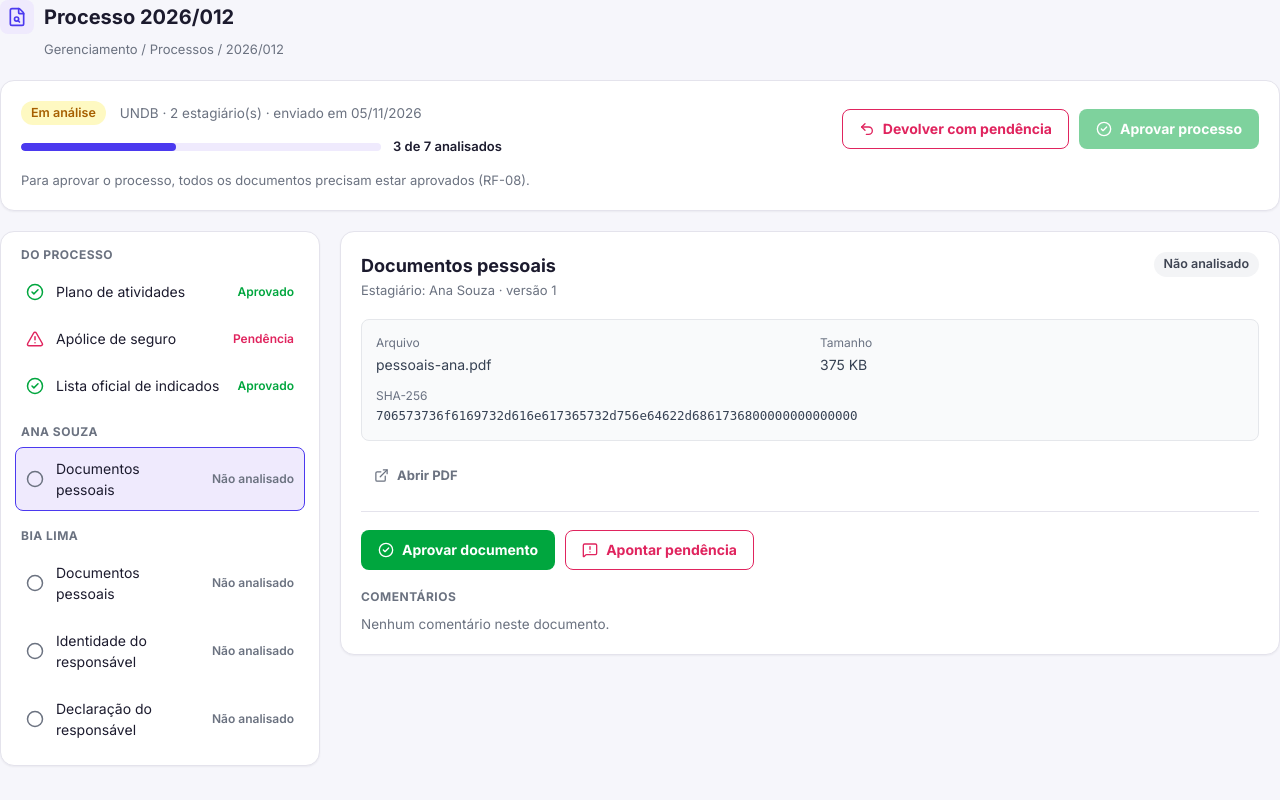
Scenario: AnaliseProcesso › mostra metadados e hash do documento selecionado
The width and height of the screenshot is (1280, 800).
Expected: the heading "Processo 2026/012" is shown, x1=44 y1=2 x2=234 y2=32
Click the button "Plano de atividades Aprovado" at [160, 292], box x1=15 y1=270 x2=305 y2=313
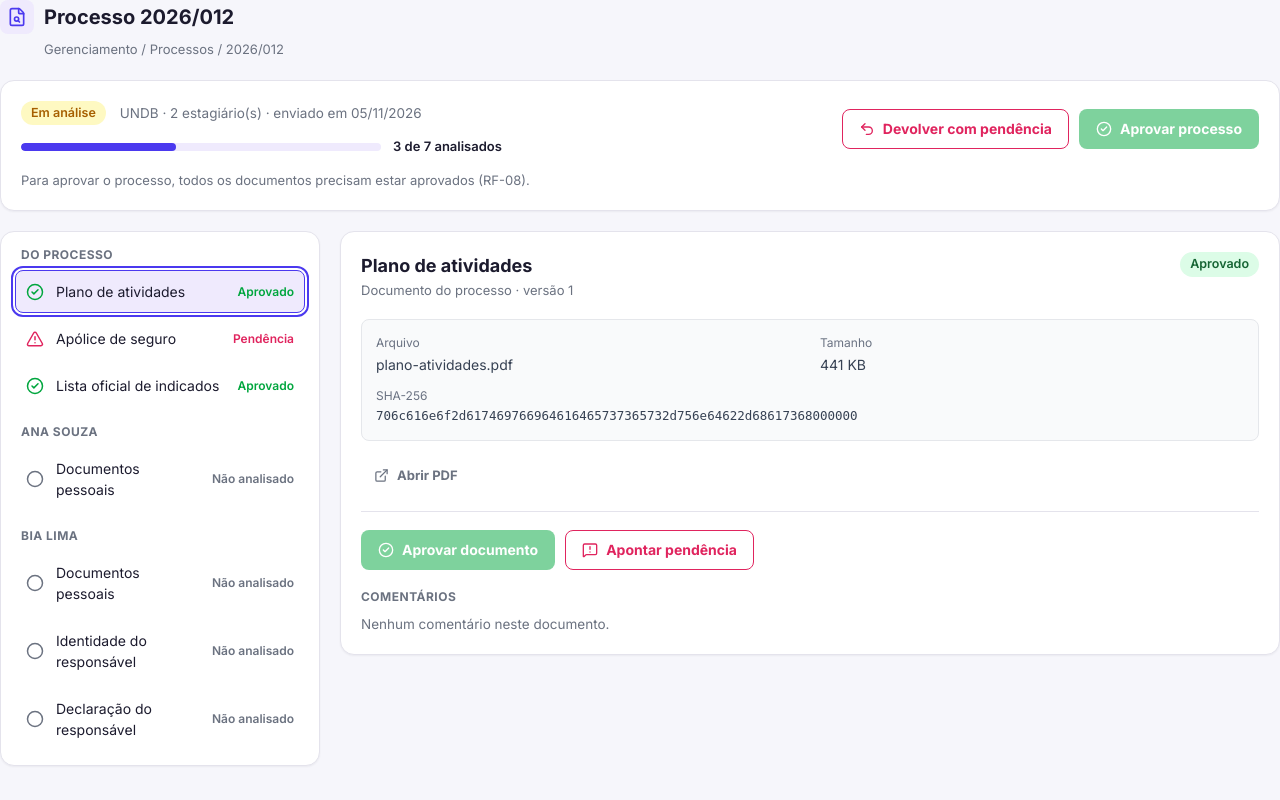
Now the text "plano-atividades.pdf" is shown, box x1=376 y1=356 x2=513 y2=373
